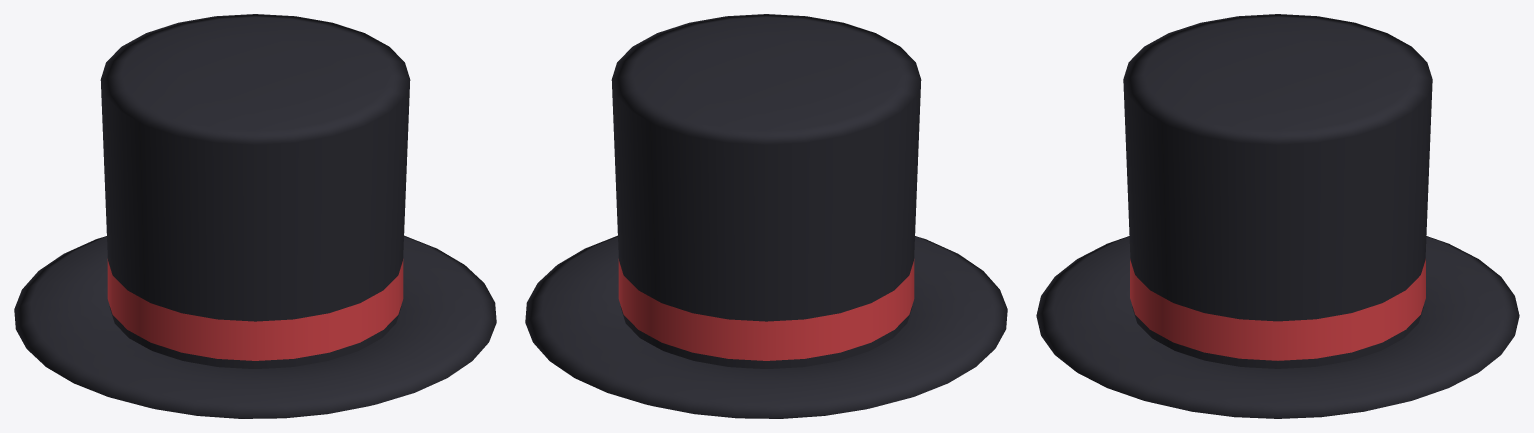
File: hat_tophat.glb
3 views of the same model, side by side, from view 1: azimuth 30°, elevation 25°; view 2: azimuth 150°, elevation 25°; view 3: azimuth 270°, elevation 25° (orthographic).
Visible parts, largest first — view 1: hat_tophat; view 2: hat_tophat; view 3: hat_tophat.
Part boxes in pixels (<box>): hat_tophat: <box>14,14,496,418</box>; hat_tophat: <box>525,14,1007,418</box>; hat_tophat: <box>1036,14,1519,418</box>.
Bounding box in the file's own units: 0.5 × 0.2952 × 0.5.
